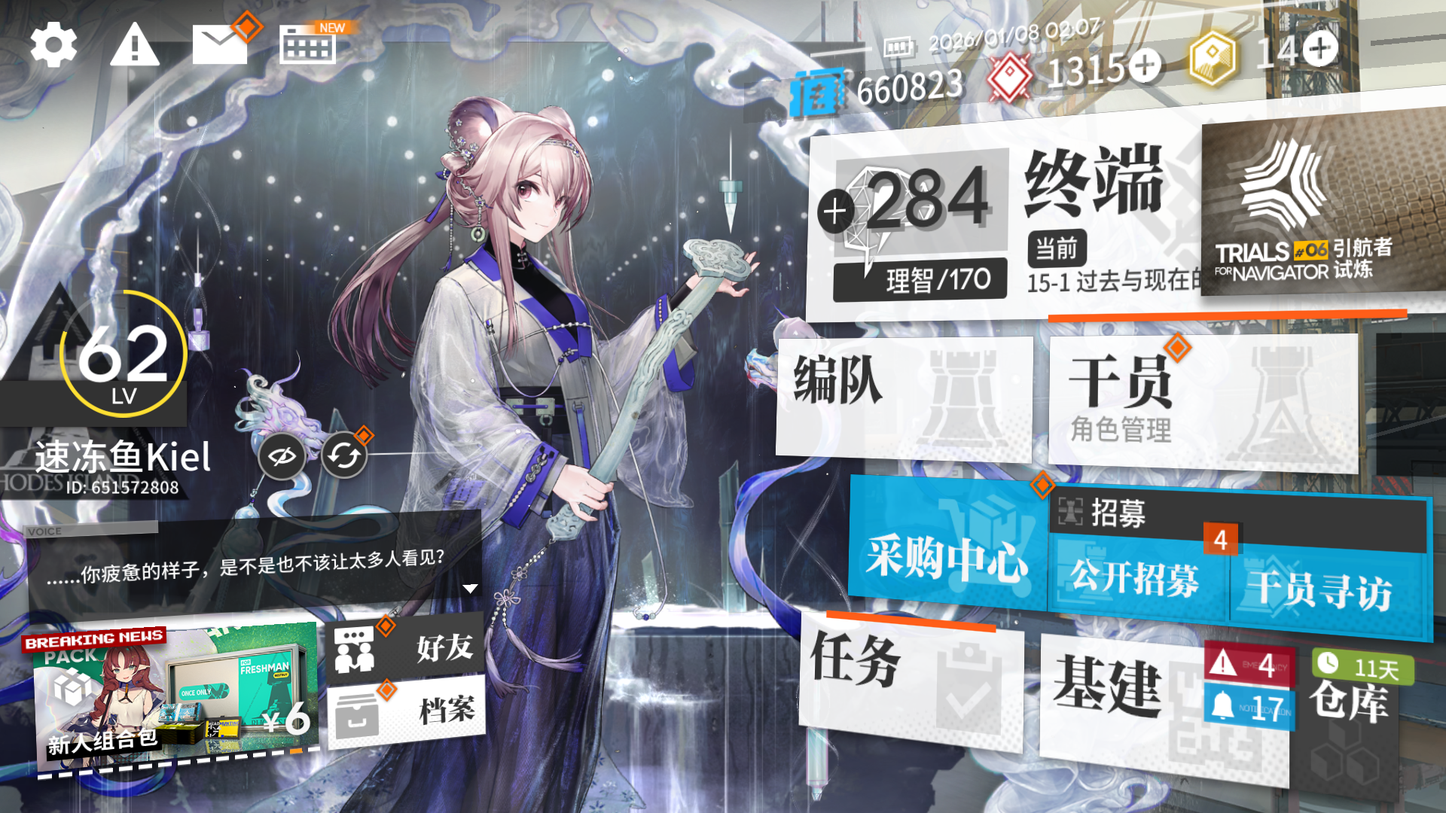home_button: (1045, 635, 1268, 774)
infrastructure_button: (999, 123, 1187, 247)
